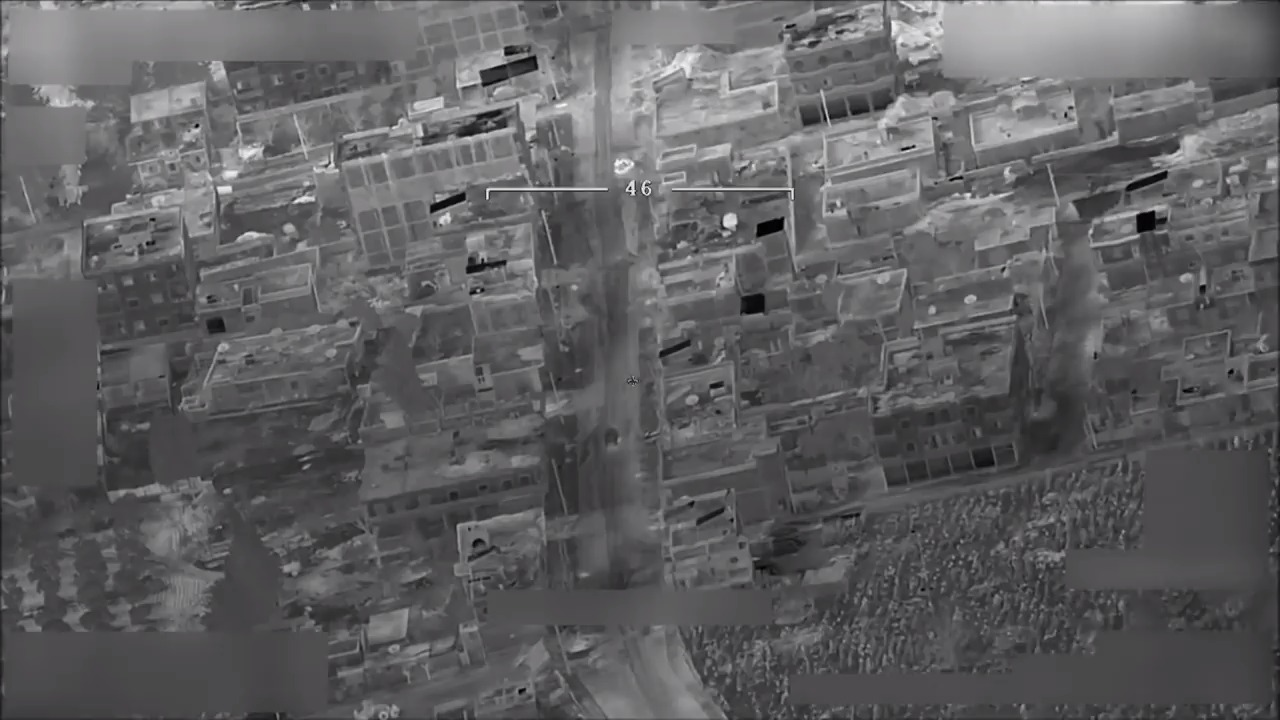arac: (607, 417, 622, 447)
bina: (333, 107, 548, 270), (872, 332, 1033, 493), (363, 416, 566, 530), (775, 4, 908, 124), (206, 321, 373, 410), (1093, 198, 1260, 281), (81, 209, 191, 332), (659, 495, 753, 588)
